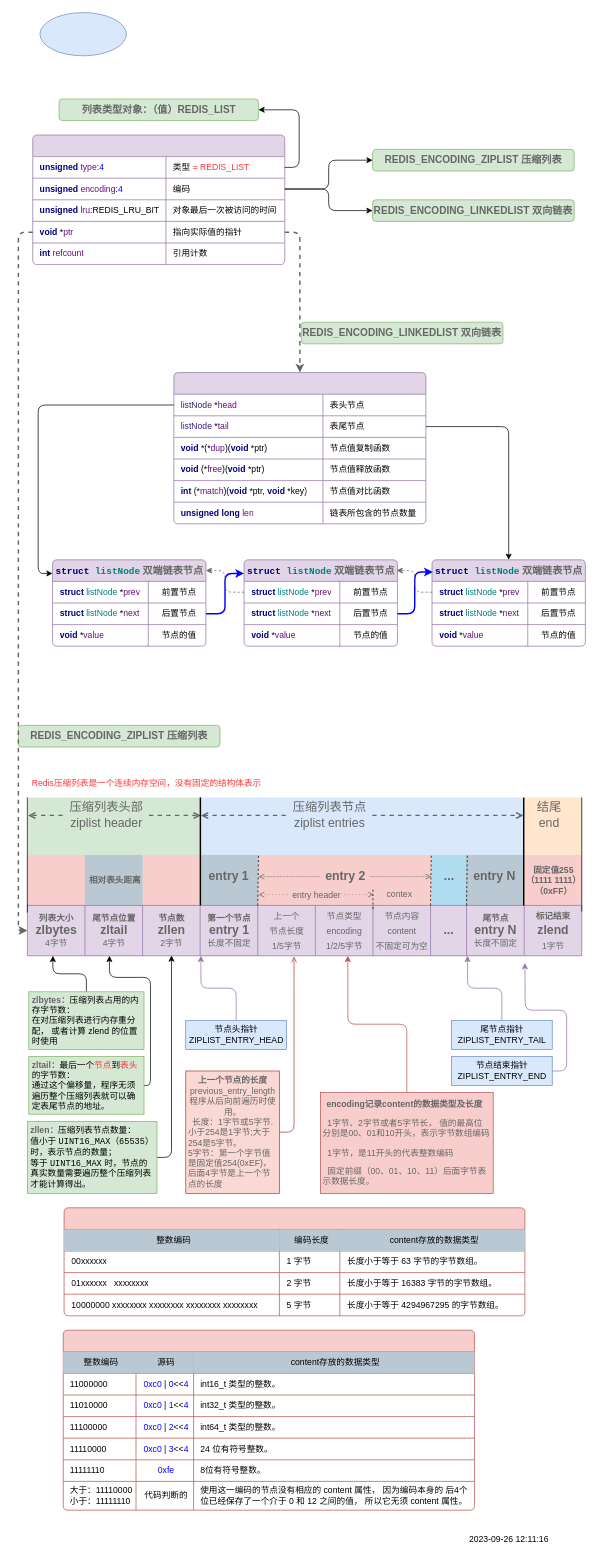
Some shapes in this 598 by 1559 pixel diagram are drawn without their labels. Here are the shapes that lost their labels. From the top down, the box of each, then its label:
(39, 12, 126, 56): Redic Object 列表数据对象
(32, 134, 285, 265): typedef struct redisObject 数据对象
(173, 372, 426, 524): typedef struct list 双端链表结构
(63, 1207, 525, 1316): 字节数组编码 （x是记录 数组的字节长度 ）
(63, 1329, 474, 1510): 整数编码（编码长度为1字节）
